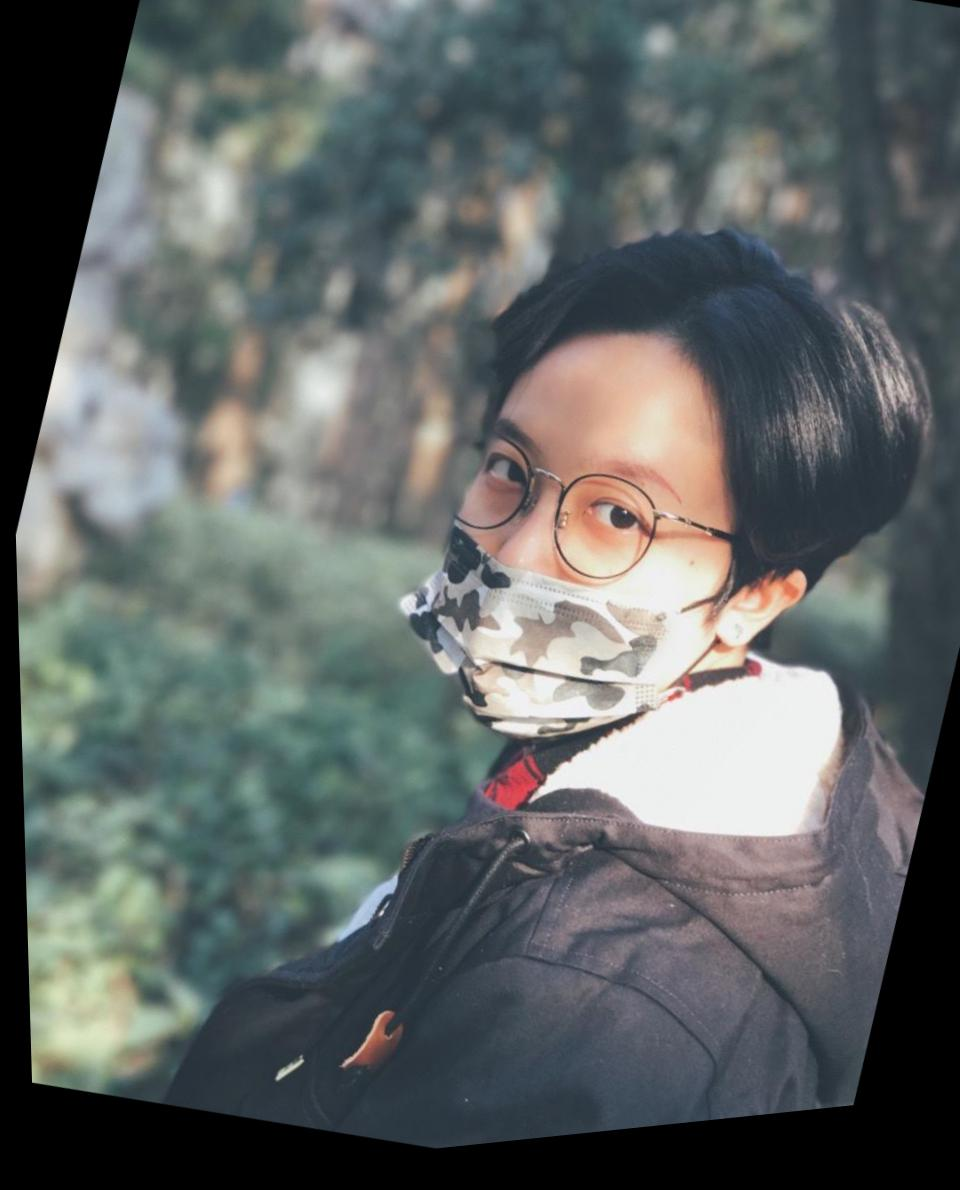WRONG: (394, 363, 735, 798)
